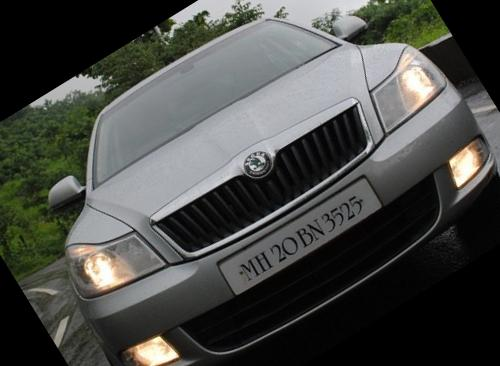plate: (204, 162, 391, 310)
